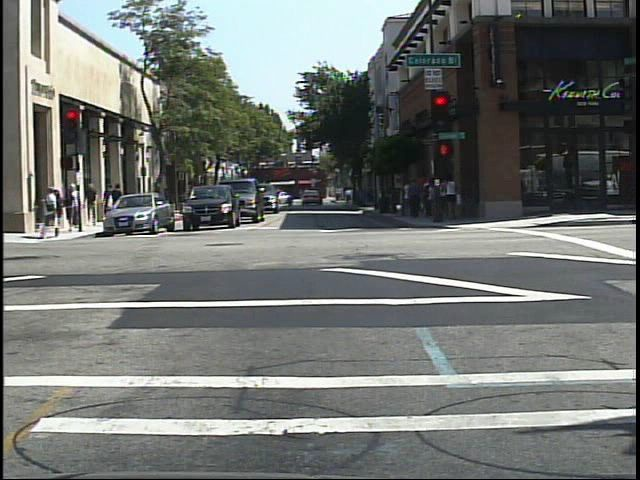person: (38, 183, 61, 242)
